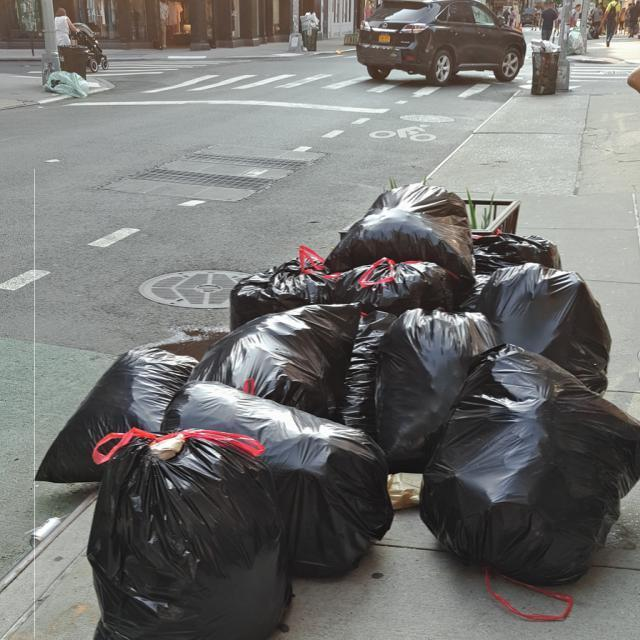Trashbag: (423, 361, 631, 571), (81, 440, 295, 640), (35, 341, 183, 486), (199, 300, 375, 394), (493, 266, 611, 388), (340, 172, 475, 268), (316, 254, 452, 311), (225, 259, 323, 318)
